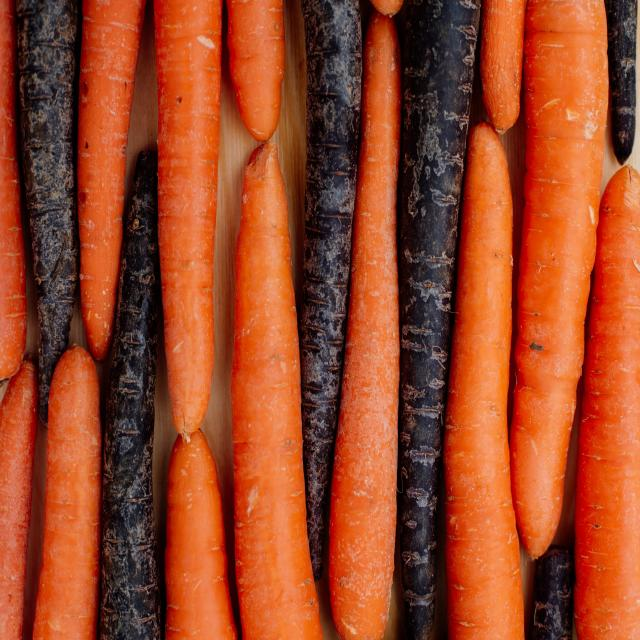Carrot: (237, 151, 310, 640)
